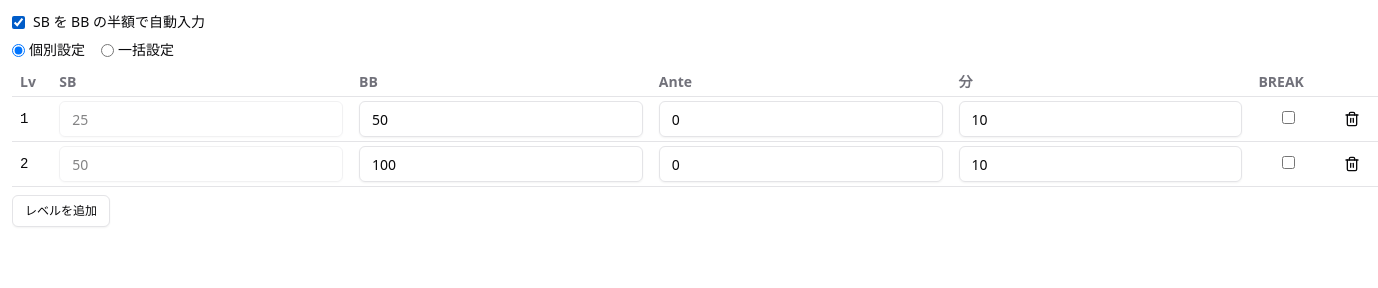
Test: LevelTable — 一括時間設定 › 一括→個別に戻すと行の分入力が再び enabled になる
This screenshot has width=1378, height=288.
Click the radio button with aria-label "duration-mode-bulk".
click(108, 50)  # box top-left (101, 44), bottom-right (114, 56)
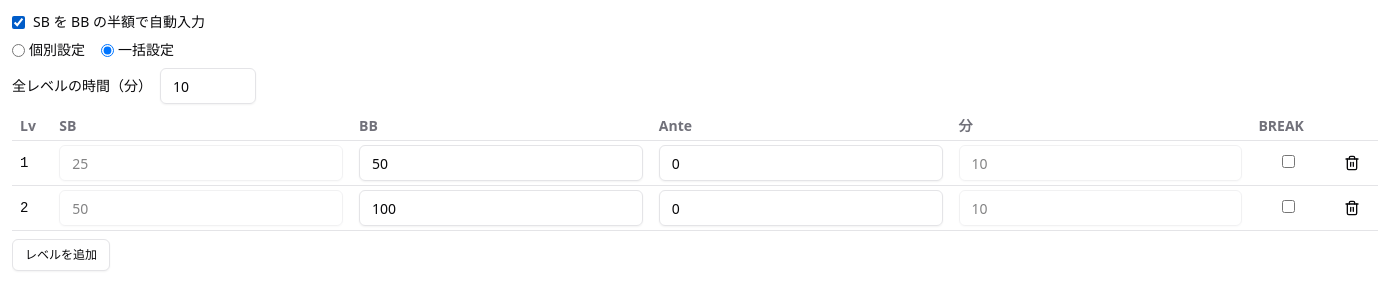
Expected: the number field named "level-1-duration-min" is disabled, top-left (959, 145), bottom-right (1242, 181)
Click the radio button with aria-label "duration-mode-individual".
click(18, 50)  # box top-left (12, 44), bottom-right (25, 56)
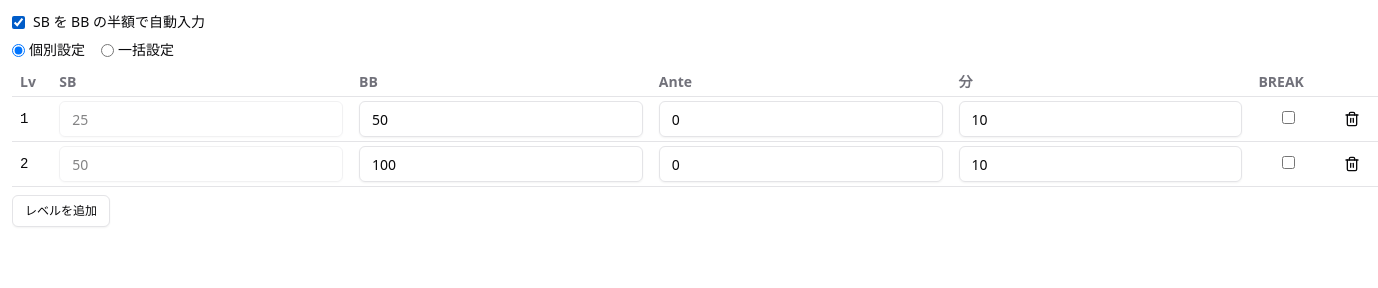
Expected: the number field named "level-1-duration-min" is enabled, top-left (959, 101), bottom-right (1242, 137)
Expected: the number field labelled "bulk-duration-min" is gone
